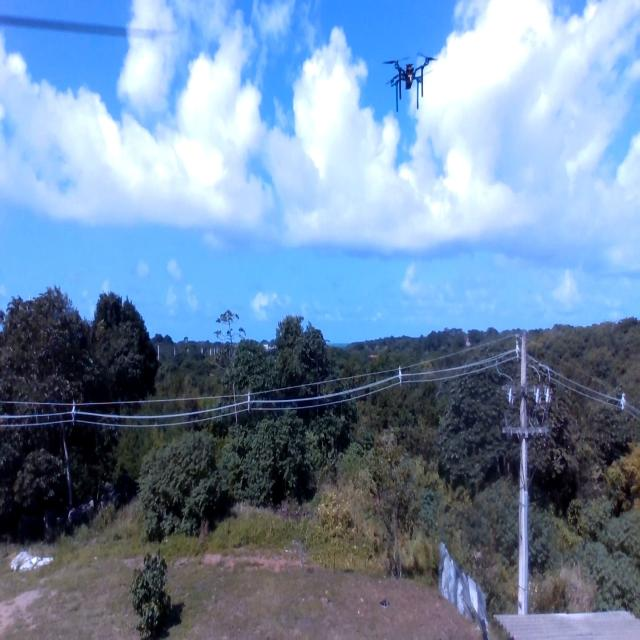-uav-: (378, 49, 438, 127)
